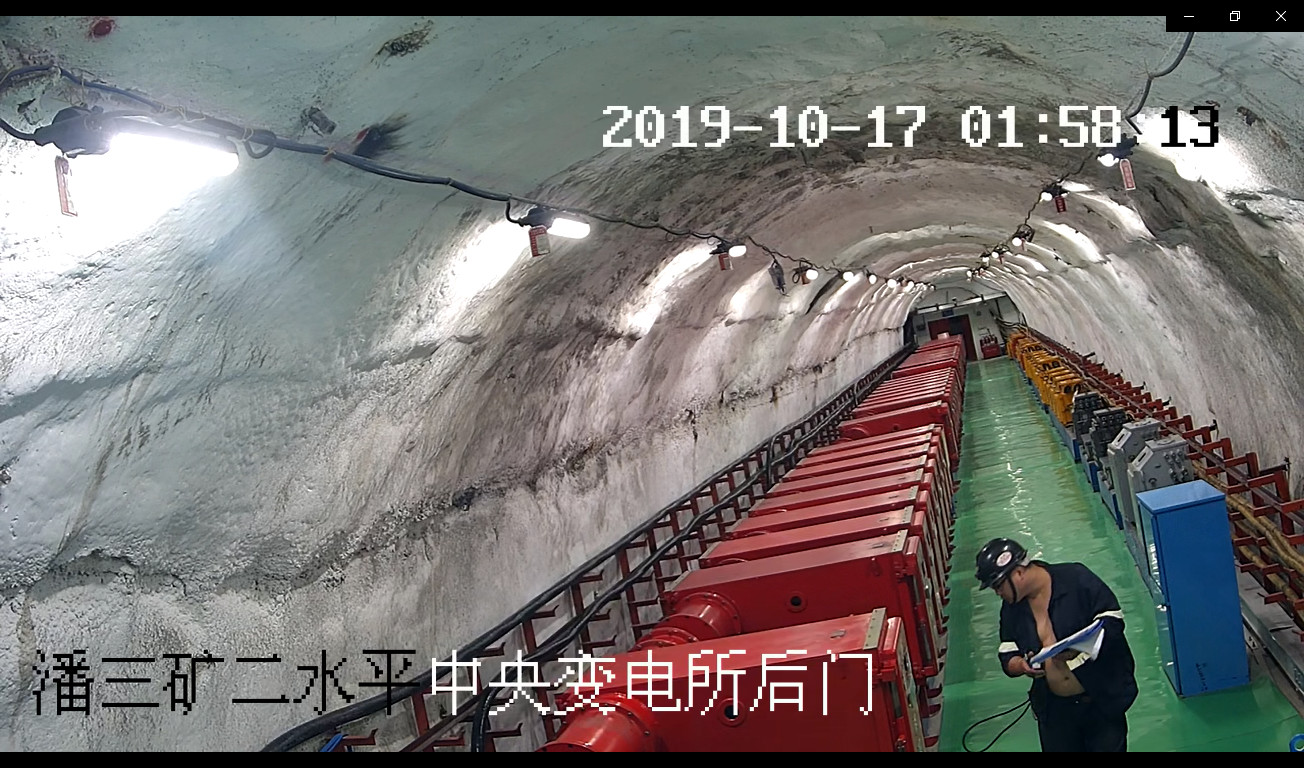helmet: (974, 537, 1027, 591)
